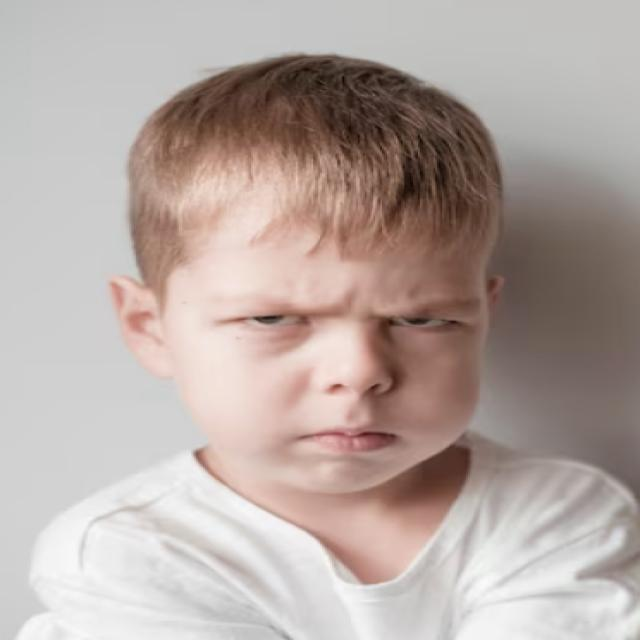angry: (192, 283, 493, 460)
